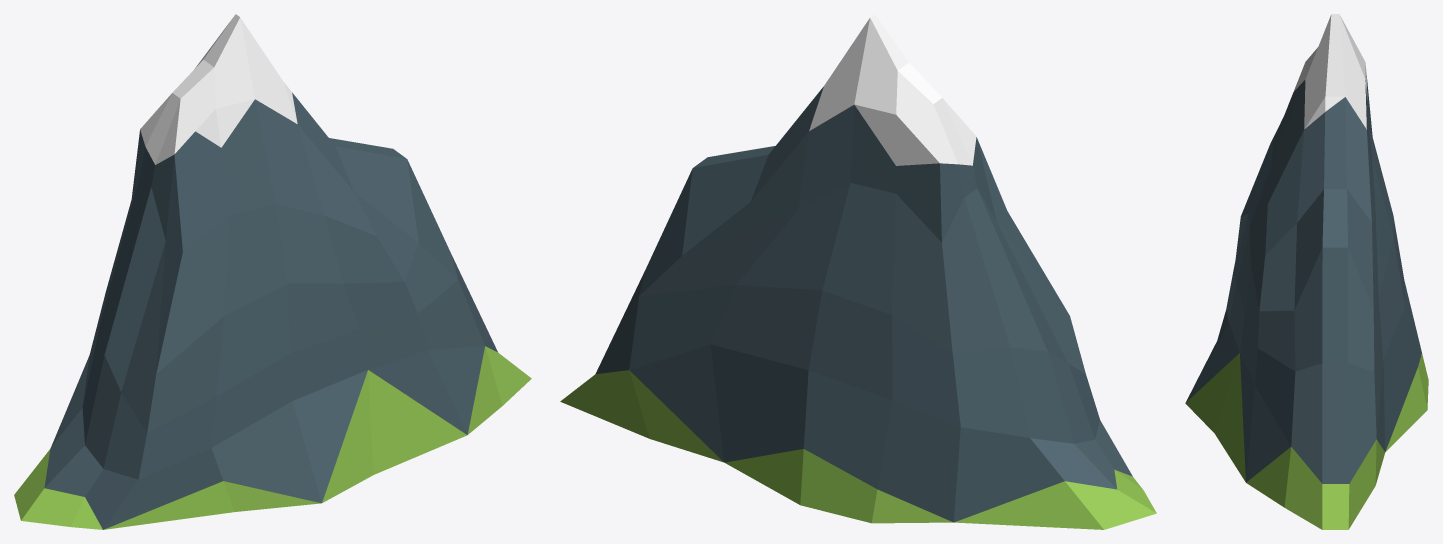
Rendered from mountain.glb.
3 renders of one model, left to right at view 1: azimuth 30°, elevation 25°; view 2: azimuth 150°, elevation 25°; view 3: azimuth 270°, elevation 25°, orthographic. The views are drawn at different scales.
Visible parts, largest first — view 1: node-0; view 2: node-0; view 3: node-0.
Part boxes in pixels (left/top/right/bottom): node-0: left=14, top=14, right=531, bottom=529; node-0: left=560, top=14, right=1156, bottom=529; node-0: left=1185, top=14, right=1428, bottom=529.
Size of the model in its own units: 10.86 by 8.39 by 4.76.
